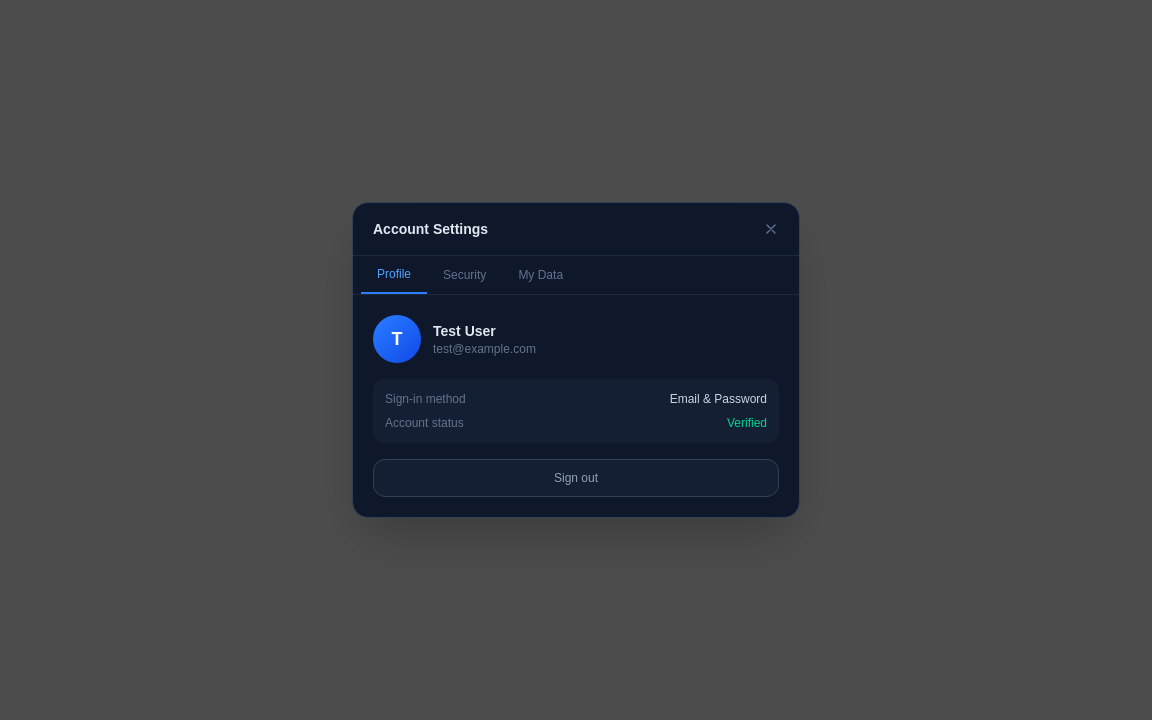
ProfileModal — Security tab (email provider) › shows success message on successful password change
This screenshot has width=1152, height=720.
Click the button "Security" at (465, 275), box 427,256 -> 502,294
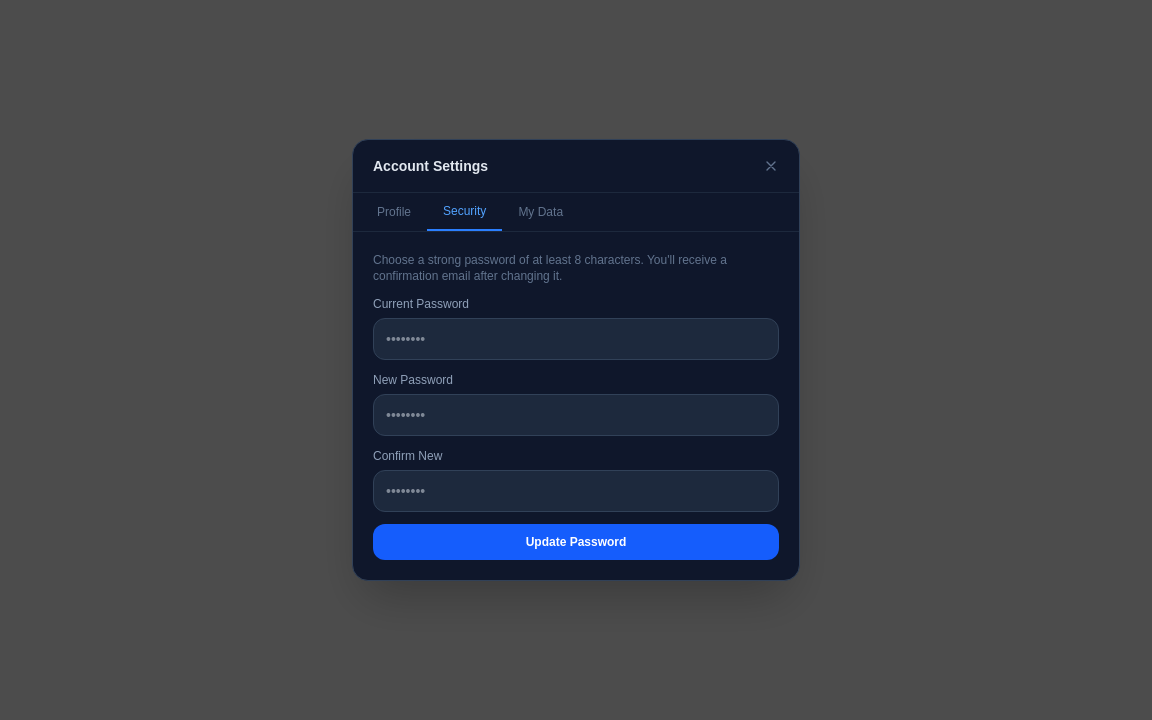
Type "oldpass123" into the password field labelled "Current Password" at (576, 339), box 373,318 -> 779,360
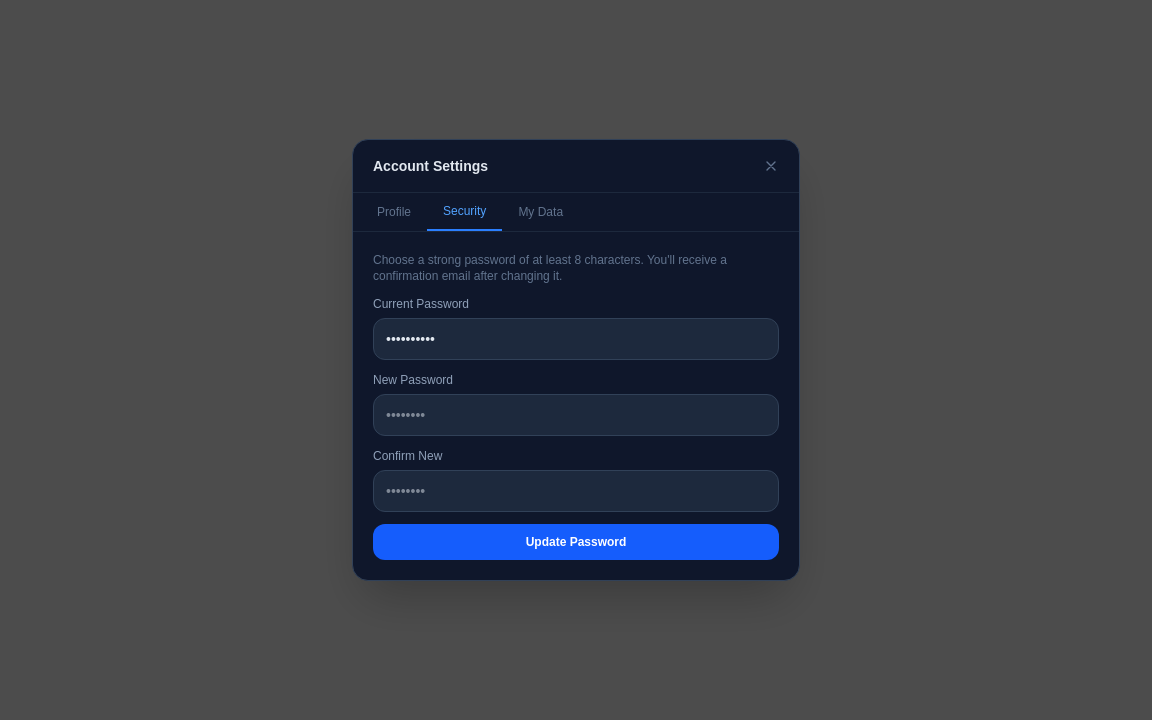
Type "newpass123" into the password field labelled "New Password" at (576, 415), box 373,394 -> 779,436
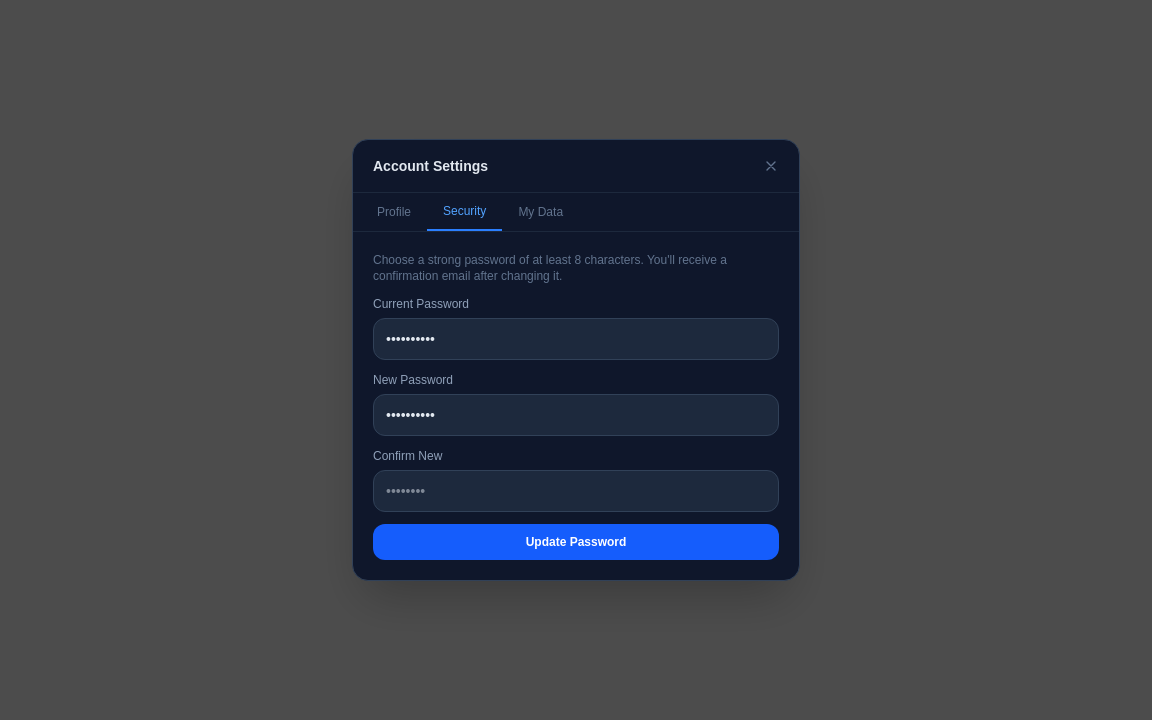
Type "newpass123" into the password field labelled "Confirm New" at (576, 491), box 373,470 -> 779,512
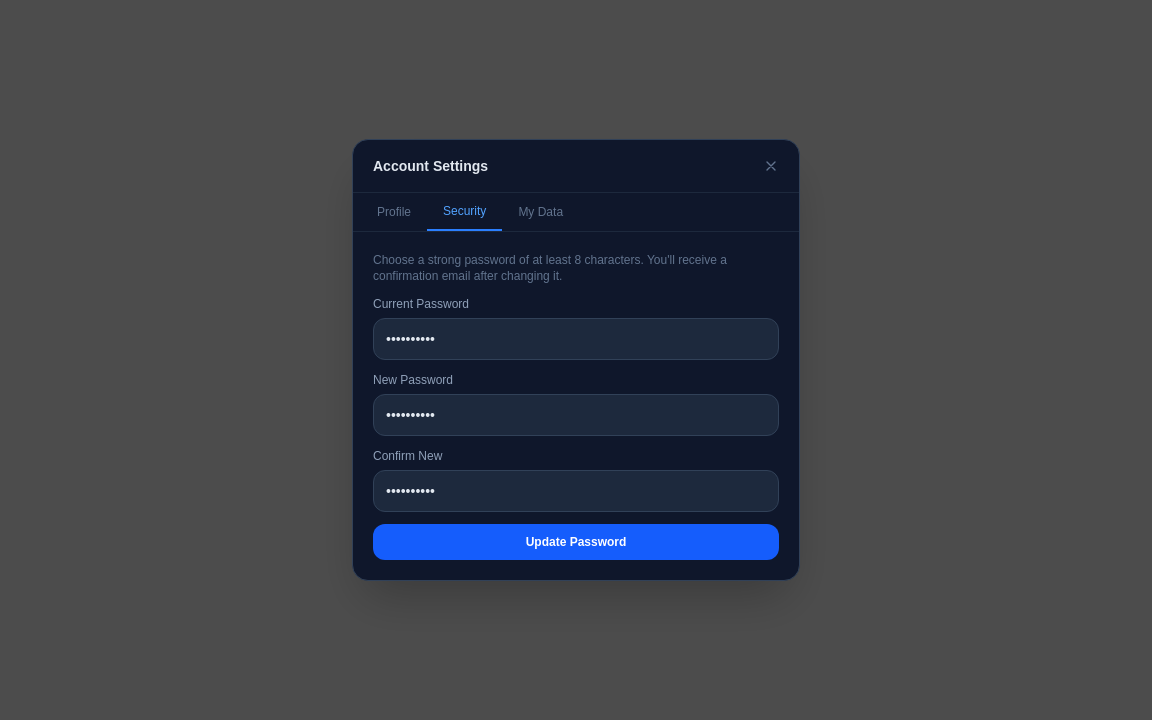
Click the button "Update Password" at (576, 542), box 373,524 -> 779,560
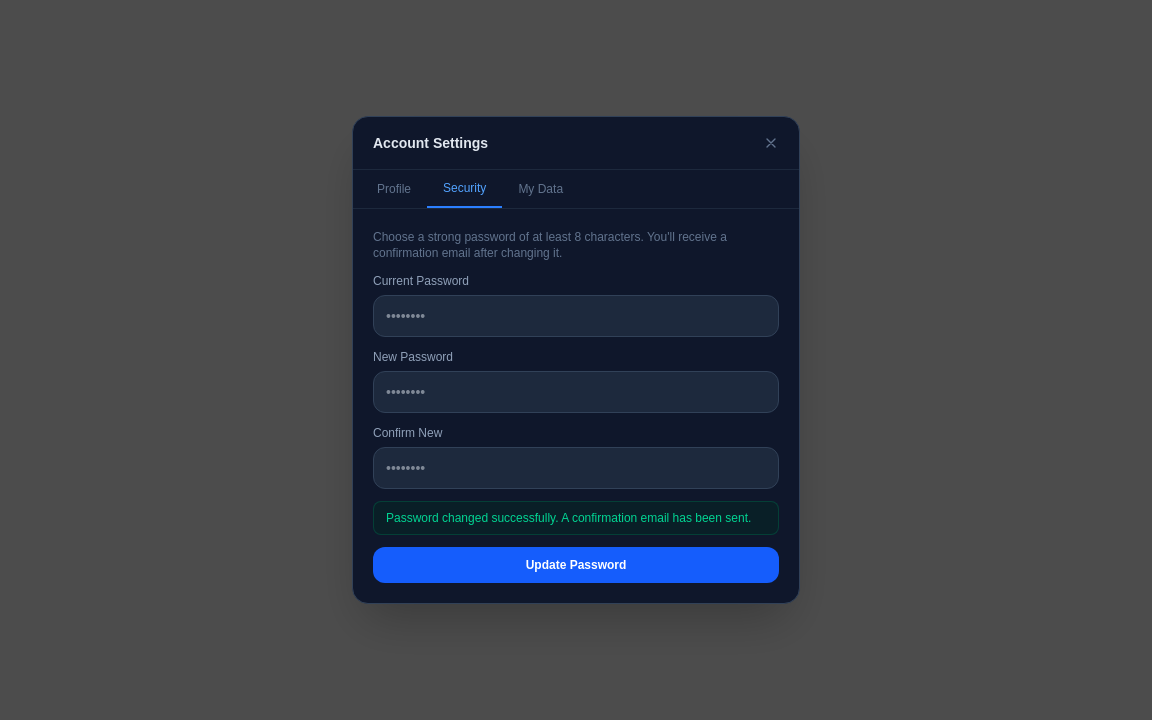
Now the text "Password changed successfully" is shown, box 386,511 -> 751,525
